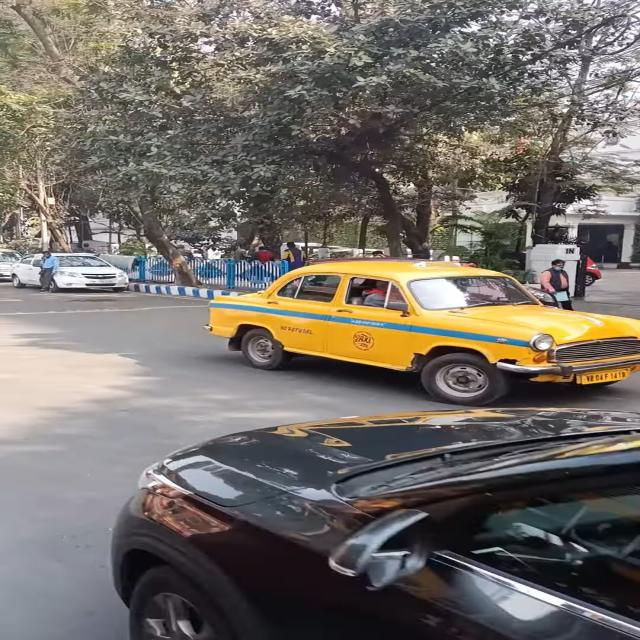Taxi: (198, 256, 640, 405)
